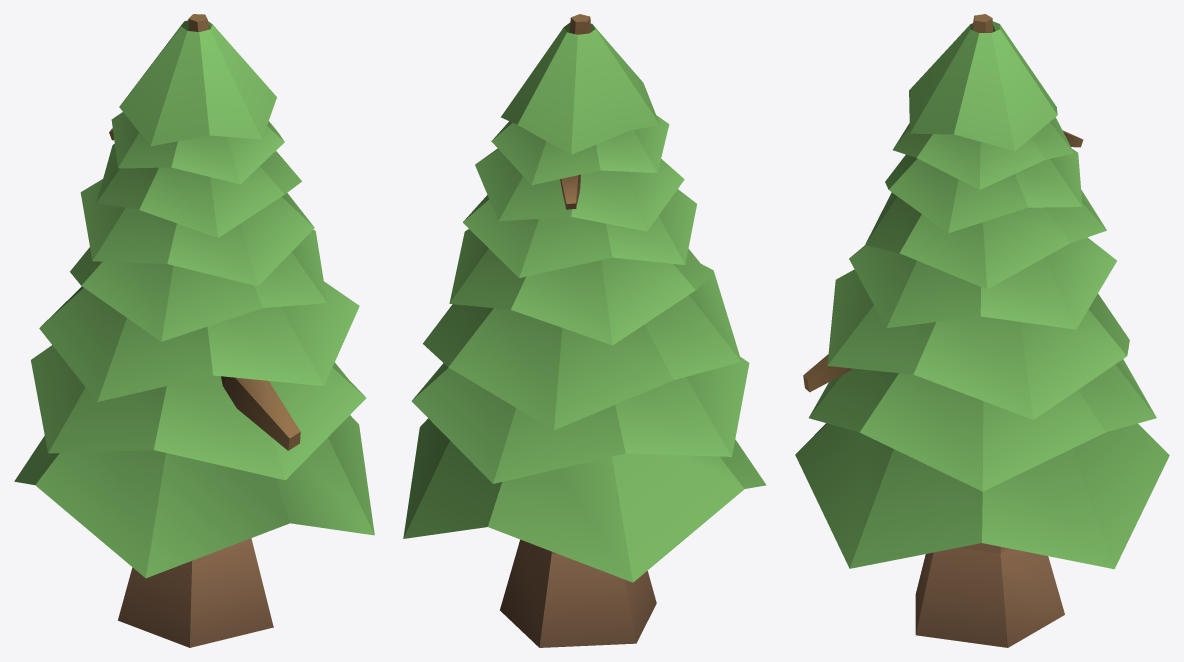
Rendered from tree01.fbx.
3 views of the same model, side by side, from view 1: azimuth 30°, elevation 25°; view 2: azimuth 150°, elevation 25°; view 3: azimuth 270°, elevation 25° (orthographic).
Parts seen in each view (by area): view 1: tree01; view 2: tree01; view 3: tree01.
Part boxes in pixels (box(x1,y1,x2,y2)): tree01: box(14, 14, 374, 647); tree01: box(403, 14, 766, 647); tree01: box(795, 14, 1169, 647).
Bounding box in the file's own units: 1.94 × 3.42 × 1.94.
